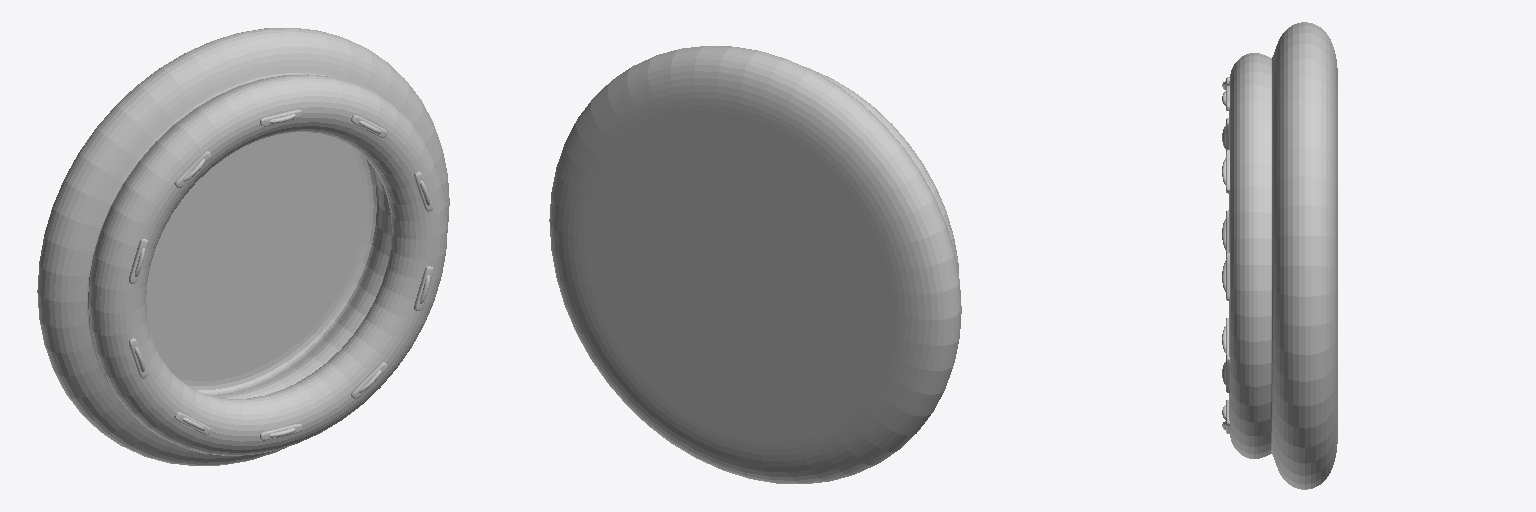
Rendered from raft.obj.
3 views of the same model, side by side, from view 1: azimuth 30°, elevation 25°; view 2: azimuth 150°, elevation 25°; view 3: azimuth 270°, elevation 25° (orthographic).
Parts seen in each view (by area): view 1: 16831_white_water_river_raft; view 2: 16831_white_water_river_raft; view 3: 16831_white_water_river_raft.
Boxes of the visible parts, x1=… form: 16831_white_water_river_raft: x1=37, y1=28, x2=449, y2=465; 16831_white_water_river_raft: x1=549, y1=46, x2=961, y2=483; 16831_white_water_river_raft: x1=1222, y1=22, x2=1337, y2=489.
Bounding box in the file's own units: 316 × 316 × 78.07.